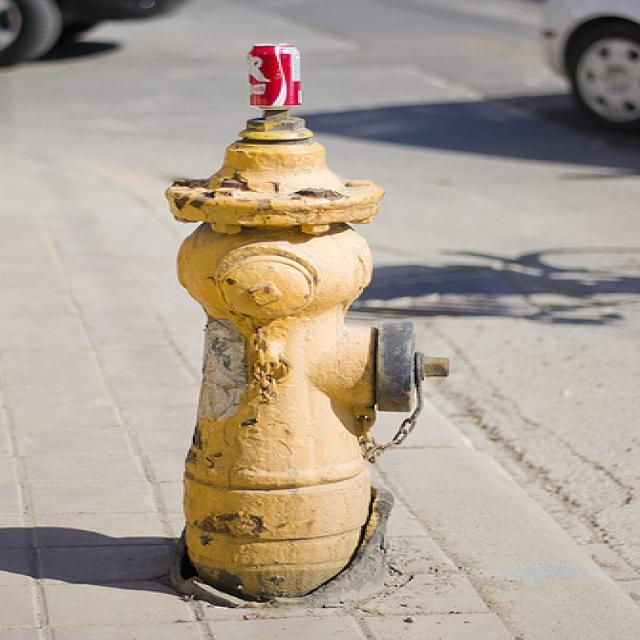fire_hydrant: (164, 110, 449, 597)
